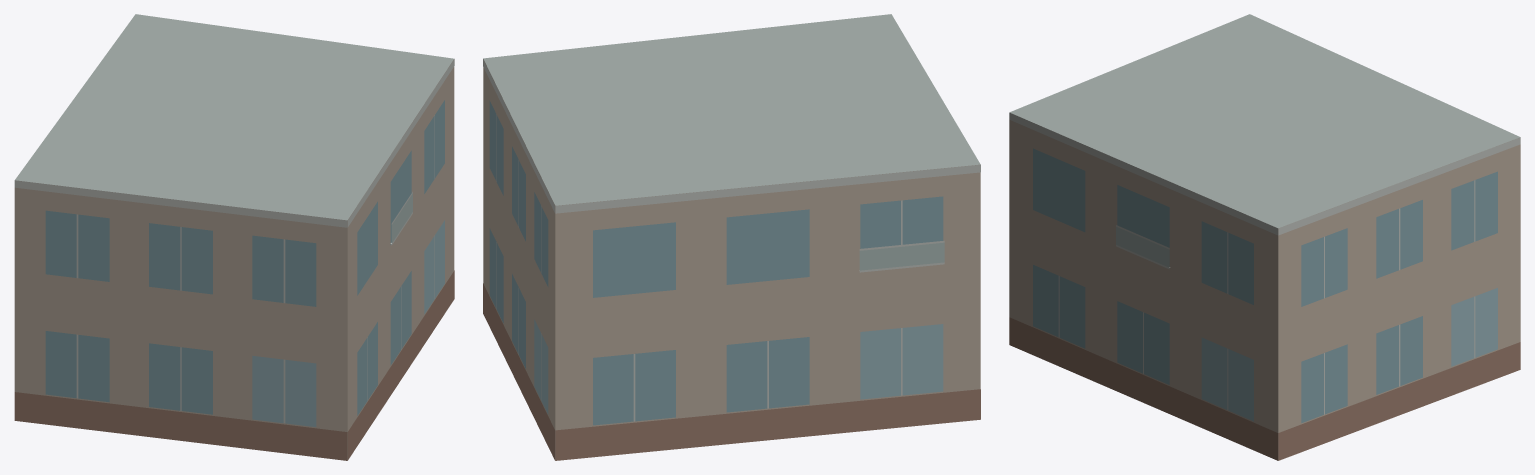
File: survey-upis-32948413.glb
3 renders of one model, left to right at view 1: azimuth 30°, elevation 25°; view 2: azimuth 150°, elevation 25°; view 3: azimuth 270°, elevation 25°, orthographic. The views are drawn at different scales.
Visible parts, largest first — view 1: survey-upis-32948413.tmp; view 2: survey-upis-32948413.tmp; view 3: survey-upis-32948413.tmp.
Boxes of the visible parts, x1,y1,x2,y2 form: survey-upis-32948413.tmp: (14, 14, 454, 460); survey-upis-32948413.tmp: (483, 14, 980, 460); survey-upis-32948413.tmp: (1009, 14, 1520, 460).
Size of the model in its own units: 15.63 by 7.9 by 15.75.
